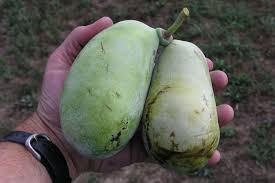papaya: (59, 20, 159, 160), (145, 38, 223, 164)
